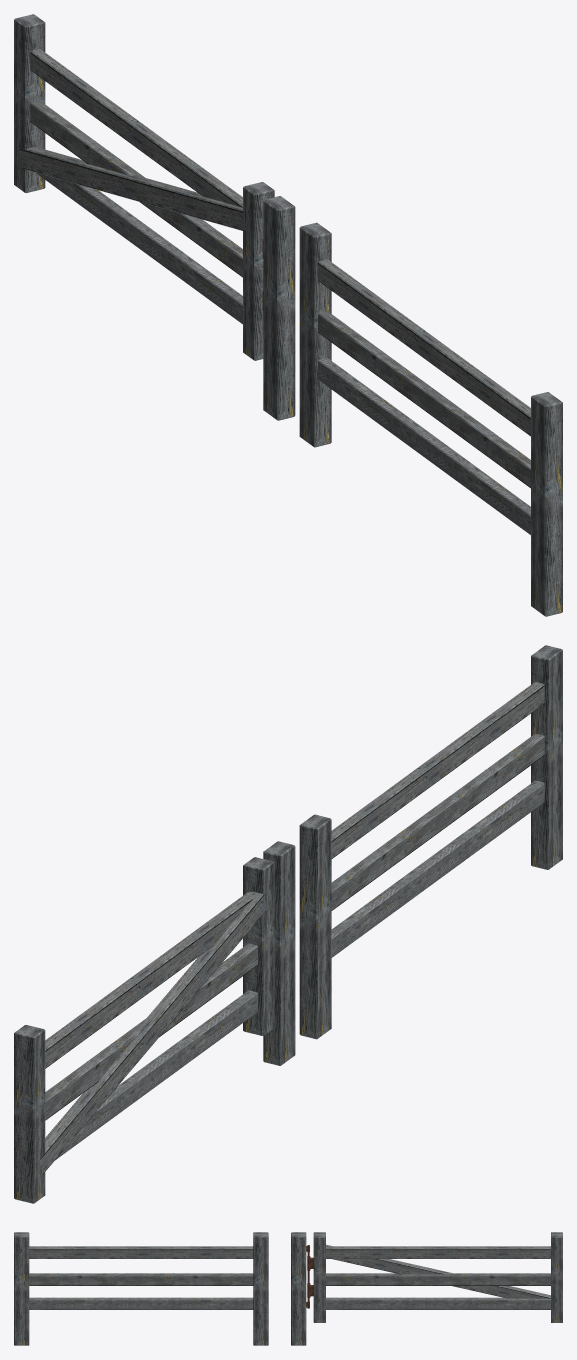
The model's file is Wooden Fence Simple.glb.
The picture shows the model from 3 angles, top to bottom: view 1: azimuth 30°, elevation 25°; view 2: azimuth 150°, elevation 25°; view 3: azimuth 270°, elevation 25°; orthographic projection. The views are drawn at different scales.
Parts seen in each view (by area): view 1: Cube.004, Cube, Cube.001, Cube.005, Cube.003, Cube.002, Cube.008, Cube.010, Cube.006, Cube.007, Cube.009, Cube.011; view 2: Cube.002, Cube.010, Cube.003, Cube.005, Cube.001, Cube, Cube.008, Cube.009, Cube.004, Cube.006, Cube.007, Cube.011; view 3: Cube.001, Cube.003, Cube.005, Cube.008, Cube.006, Cube.007, Cube.002, Cube, Cube.004, Cube.010, Cube.011, Cube.009.
Part boxes in pixels (x1=…): Cube.004: x1=263, y1=196, x2=295, y2=420; Cube: x1=531, y1=392, x2=562, y2=616; Cube.001: x1=318, y1=311, x2=530, y2=488; Cube.005: x1=318, y1=358, x2=530, y2=534; Cube.003: x1=318, y1=259, x2=530, y2=436; Cube.002: x1=299, y1=222, x2=331, y2=447; Cube.008: x1=30, y1=48, x2=242, y2=207; Cube.010: x1=19, y1=146, x2=245, y2=231; Cube.006: x1=36, y1=147, x2=242, y2=324; Cube.007: x1=30, y1=100, x2=242, y2=277; Cube.009: x1=14, y1=14, x2=45, y2=192; Cube.011: x1=243, y1=182, x2=274, y2=360; Cube.002: x1=299, y1=814, x2=331, y2=1039; Cube.010: x1=40, y1=892, x2=266, y2=1174; Cube.003: x1=331, y1=681, x2=544, y2=858; Cube.005: x1=331, y1=780, x2=544, y2=957; Cube.001: x1=331, y1=733, x2=544, y2=910; Cube: x1=531, y1=645, x2=562, y2=869; Cube.008: x1=45, y1=891, x2=254, y2=1068; Cube.009: x1=14, y1=1025, x2=45, y2=1203; Cube.004: x1=263, y1=841, x2=295, y2=1065; Cube.006: x1=55, y1=990, x2=257, y2=1159; Cube.007: x1=45, y1=943, x2=257, y2=1120; Cube.011: x1=243, y1=857, x2=274, y2=1035; Cube.001: x1=29, y1=1273, x2=253, y2=1285; Cube.003: x1=29, y1=1246, x2=253, y2=1258; Cube.005: x1=29, y1=1297, x2=253, y2=1309; Cube.008: x1=326, y1=1246, x2=550, y2=1258; Cube.006: x1=326, y1=1297, x2=550, y2=1309; Cube.007: x1=326, y1=1273, x2=550, y2=1285; Cube.002: x1=253, y1=1232, x2=268, y2=1345; Cube: x1=14, y1=1232, x2=29, y2=1345; Cube.004: x1=291, y1=1232, x2=306, y2=1345; Cube.010: x1=326, y1=1244, x2=550, y2=1298; Cube.011: x1=313, y1=1232, x2=325, y2=1322; Cube.009: x1=551, y1=1232, x2=562, y2=1322.
Bounding box in the file's own units: 1.61 × 15.74 × 71.72.
Materials: 9 (9 with a texture image).
